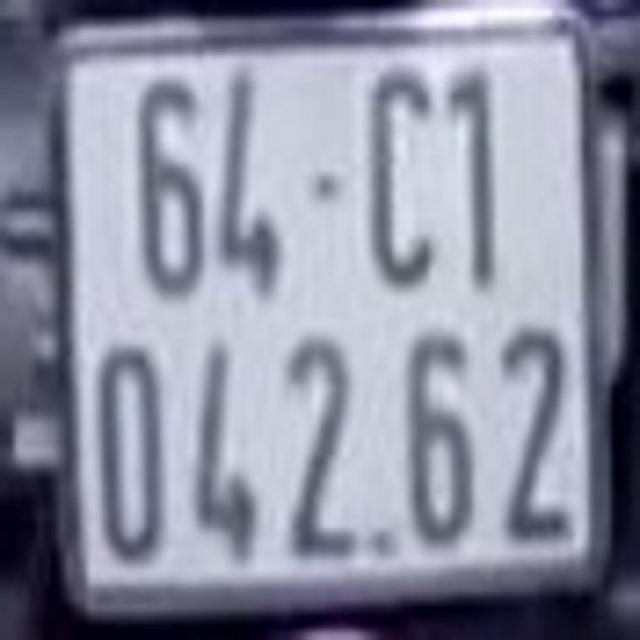0: (92, 357, 162, 552)
1: (448, 70, 500, 284)
2: (498, 323, 572, 536), (284, 337, 352, 554)
4: (216, 71, 286, 294), (192, 343, 252, 554)
6: (136, 75, 212, 295), (402, 339, 474, 543)
C: (371, 68, 436, 290)
